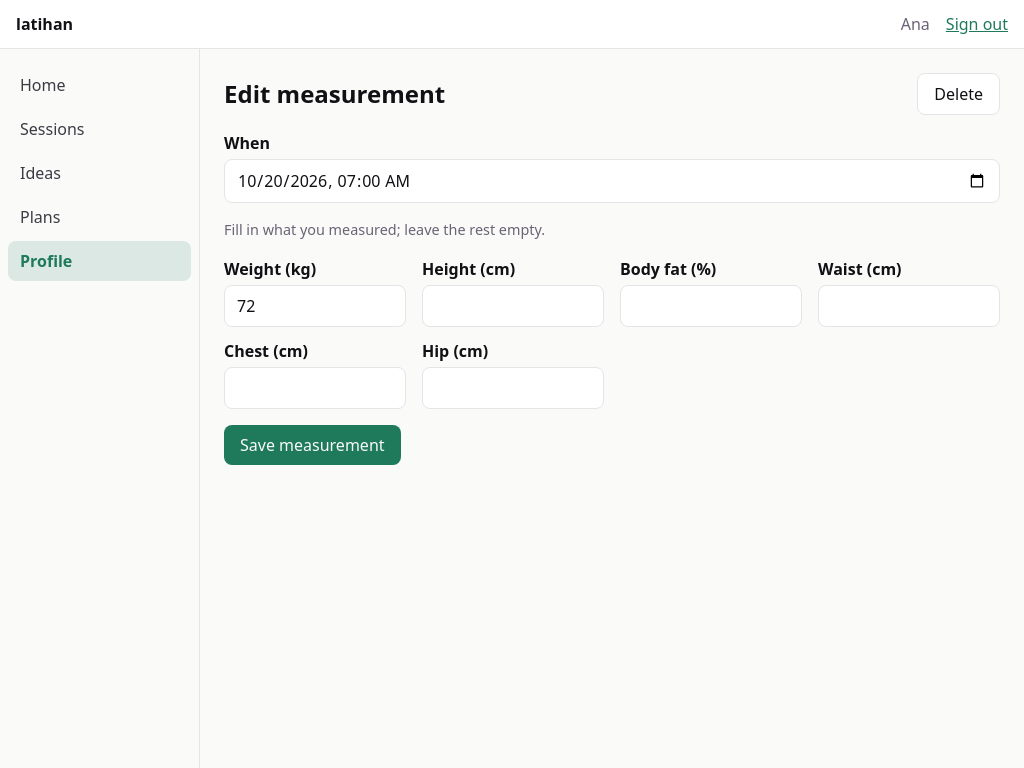
Test: editing a measurement › offers Reload when it changed on another device
Type ".5" into the field labelled "Weight (kg)" at x=315, y=306, box [224,285,406,327]
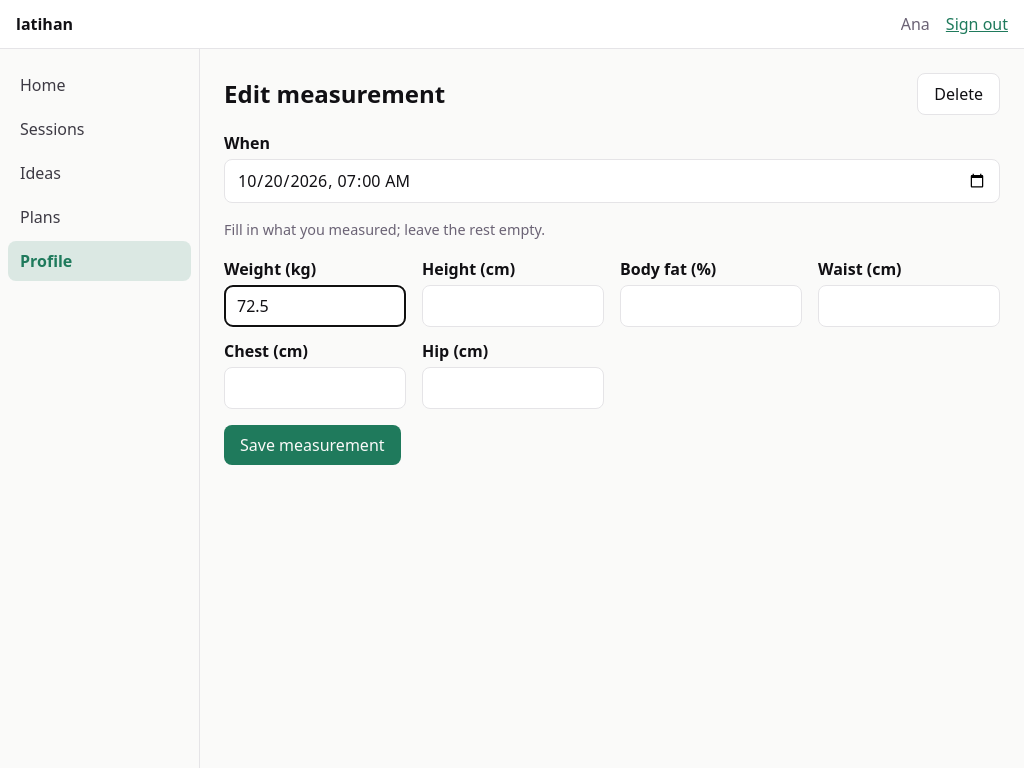
Click the button "Save measurement" at x=312, y=445, box [224,425,400,465]
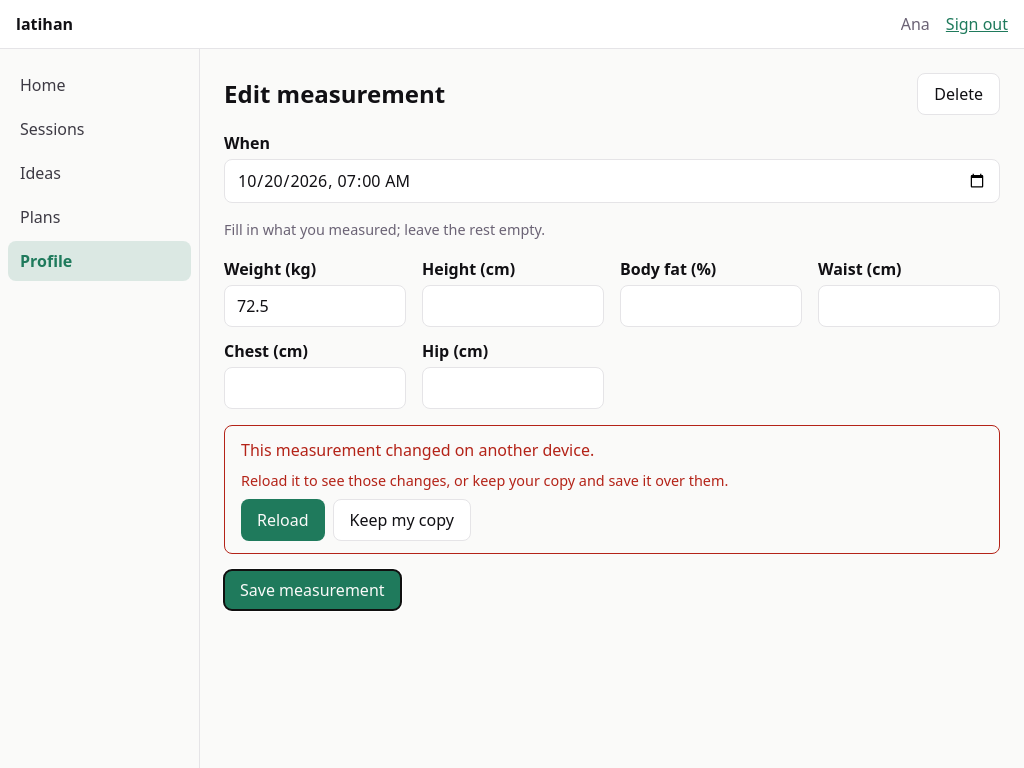
Expected: the message shows "This measurement changed on another device.", [224,425,1000,554]
Click the button "Reload" at x=283, y=520, box [241,499,325,541]
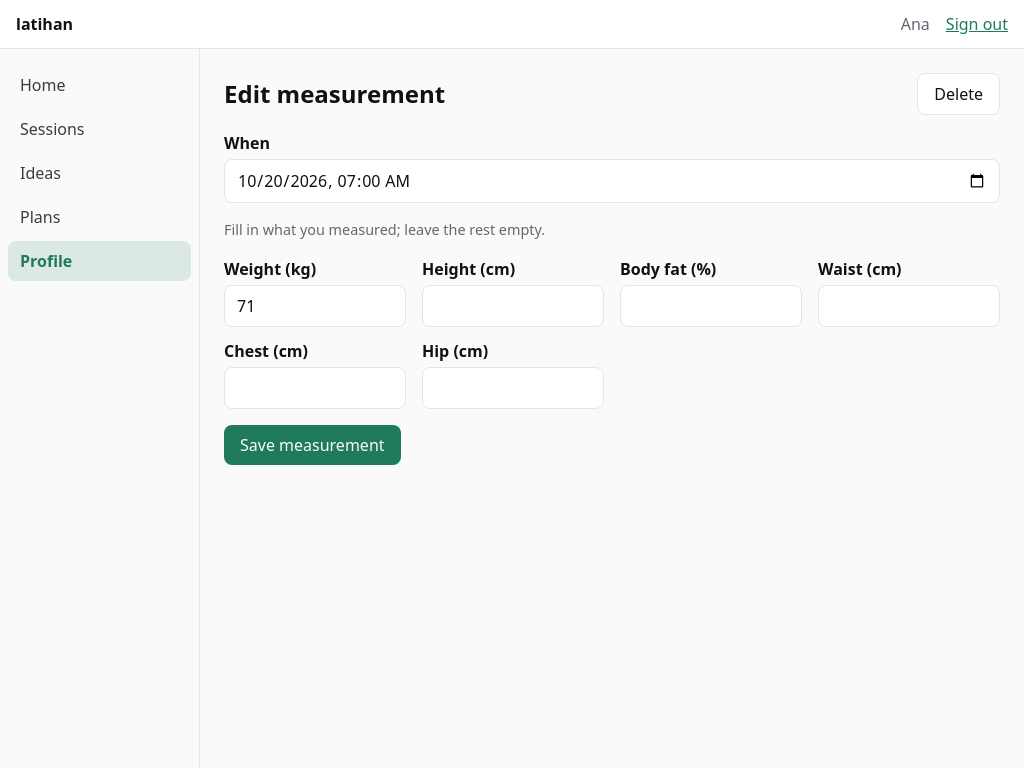
Expected: the field labelled "Weight (kg)" holds "71", [224,285,406,327]
